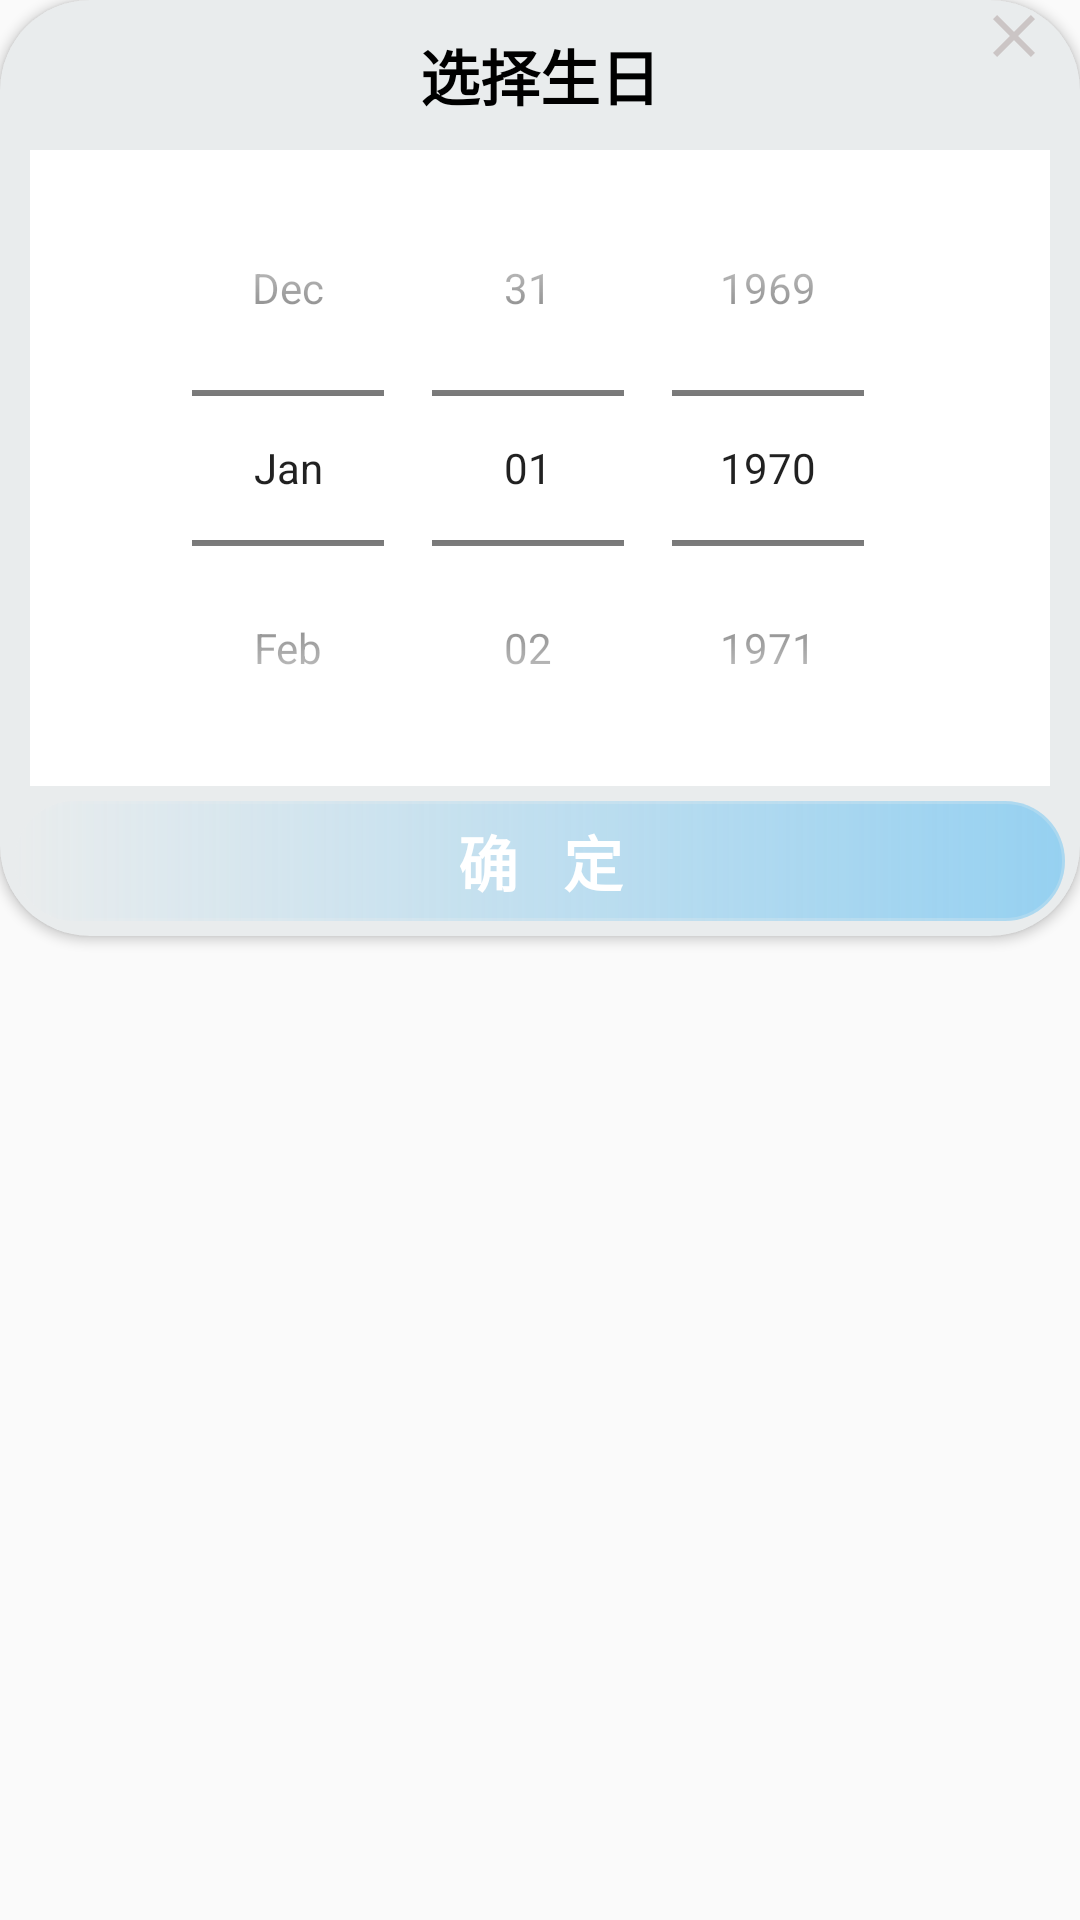

Icons on this 1080×1920 Android screen, each with the point to tap as [x,y]:
close dialog: [1014,36]
